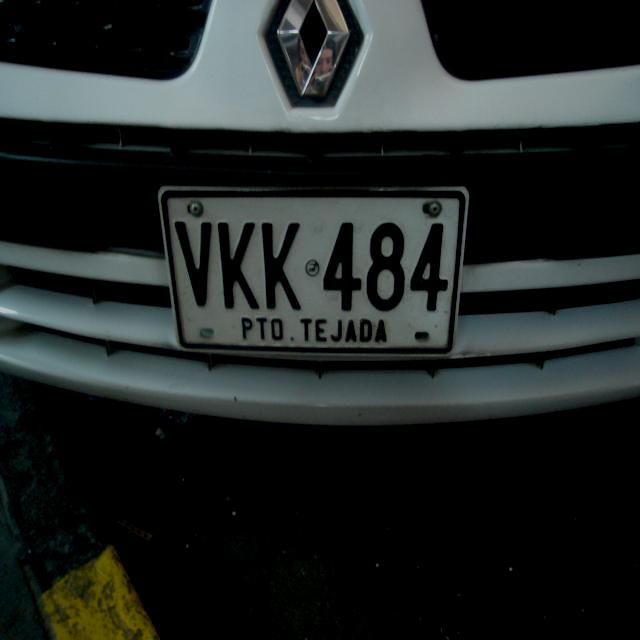particular: (152, 176, 476, 360)
